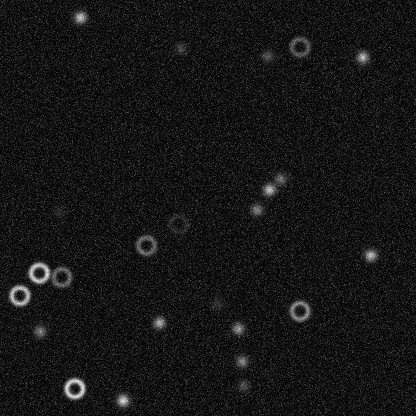Ring: (62, 376, 86, 400), (26, 260, 50, 284), (166, 211, 190, 235), (49, 264, 73, 288), (287, 34, 311, 58), (287, 298, 311, 322), (134, 233, 158, 257), (7, 283, 31, 307)
Spot: (362, 246, 378, 262), (234, 353, 250, 369), (32, 323, 48, 339), (151, 314, 167, 330), (248, 201, 264, 217), (114, 392, 130, 408), (354, 49, 370, 65), (208, 296, 224, 312), (72, 9, 88, 25), (50, 204, 66, 220), (272, 170, 288, 186), (172, 39, 188, 55), (235, 377, 251, 393), (261, 181, 277, 197), (259, 47, 275, 63), (229, 320, 245, 336)
